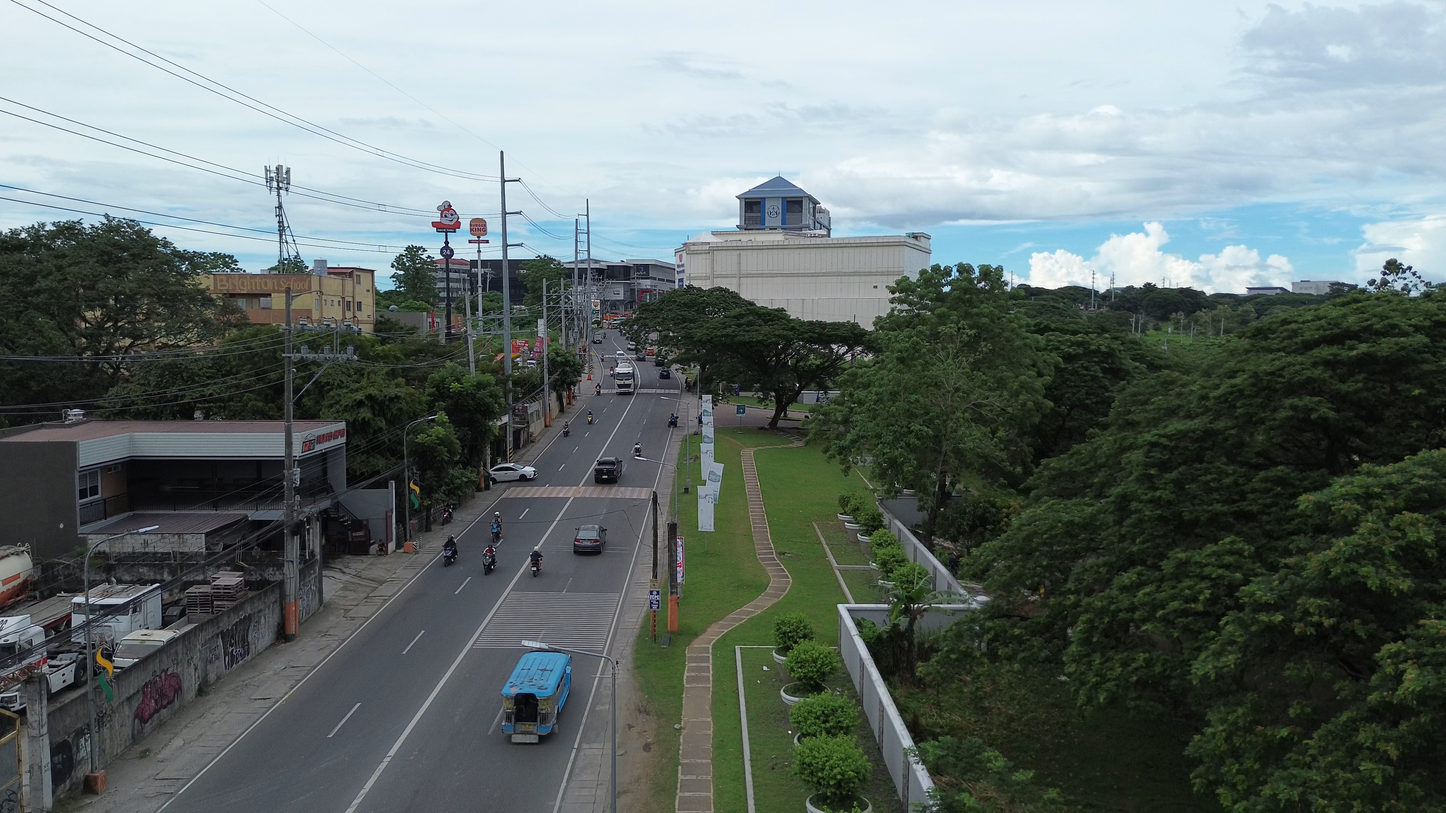car: (573, 524, 607, 554), (488, 463, 536, 483), (658, 367, 671, 379), (592, 335, 603, 344), (615, 350, 626, 359), (627, 341, 636, 350)
motorcycle: (484, 549, 496, 575), (441, 503, 453, 525), (444, 547, 457, 566), (531, 559, 540, 577), (668, 415, 678, 428), (562, 426, 570, 437), (587, 413, 594, 425)
truck: (0, 616, 78, 711)
vehicle: (501, 651, 571, 743), (90, 584, 164, 641), (111, 629, 180, 669), (0, 546, 32, 607), (39, 652, 81, 694), (594, 457, 623, 483), (614, 362, 636, 394), (484, 547, 496, 575), (658, 367, 671, 379), (645, 346, 657, 358), (635, 351, 646, 361), (615, 350, 626, 359), (627, 341, 636, 350)
